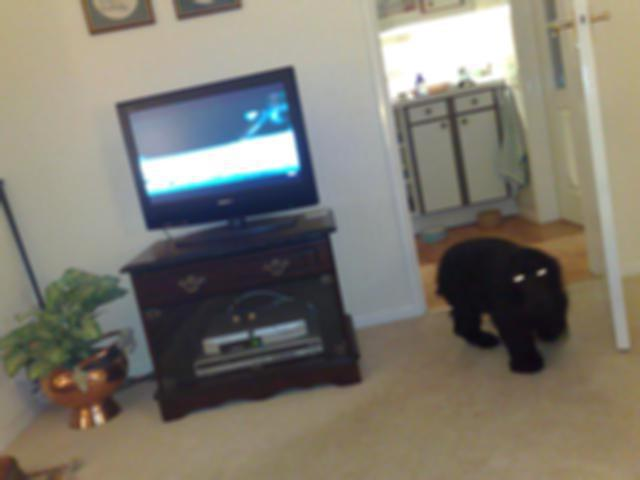Matera: (14, 266, 134, 439)
Otro Obstaculo: (430, 234, 569, 376)
